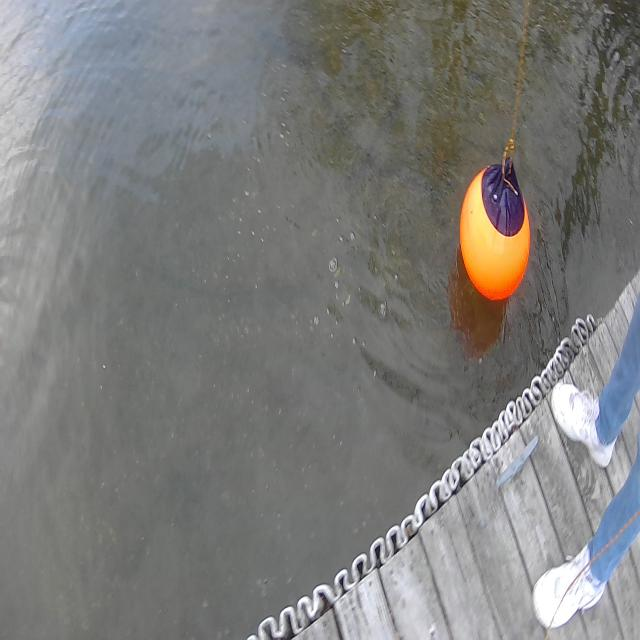Buoy: (455, 156, 532, 311)
